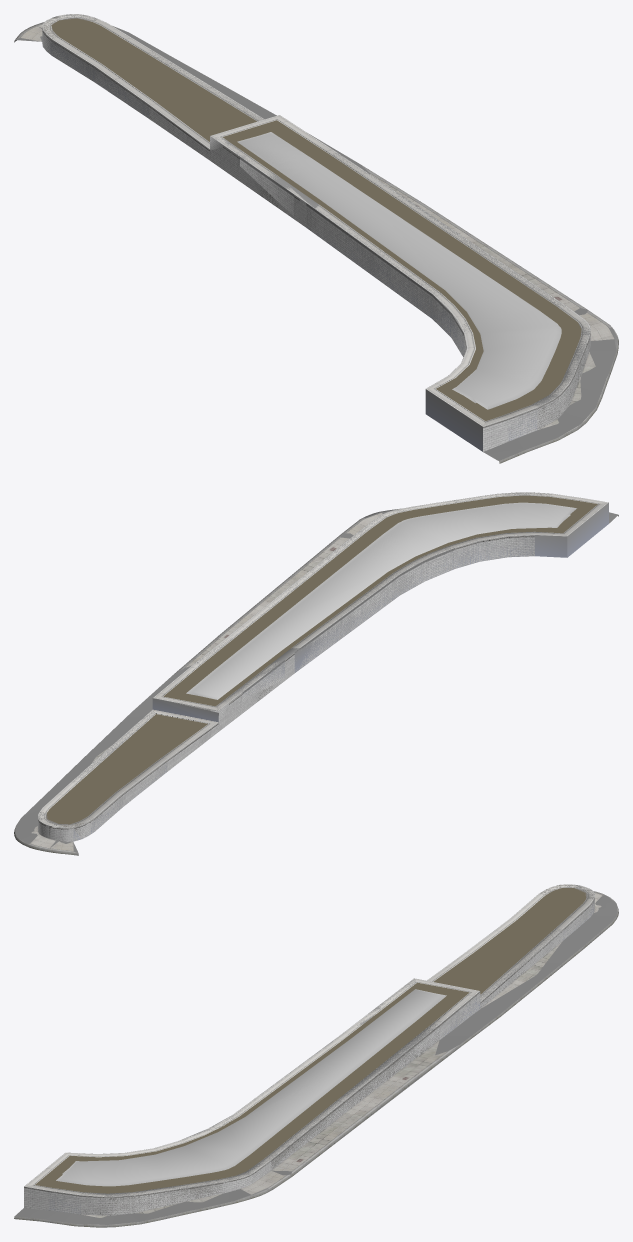
Rendered from s_walkway.dae.
3 renders of one model, top to bottom at view 1: azimuth 30°, elevation 25°; view 2: azimuth 150°, elevation 25°; view 3: azimuth 330°, elevation 25°, orthographic. The views are drawn at different scales.
Visible parts, largest first — view 1: s_walkway_L1200, s_walkway_L300, s_walkway_L600, Colmesh_s_walkway-1; view 2: s_walkway_L1200, s_walkway_L300, s_walkway_L600, Colmesh_s_walkway-1; view 3: s_walkway_L1200, s_walkway_L300, s_walkway_L600, Colmesh_s_walkway-1.
Boxes of the visible parts, x1,y1,x2,y2 form: s_walkway_L1200: (15,14,618,463); s_walkway_L300: (14,16,616,460); s_walkway_L600: (38,14,617,433); Colmesh_s_walkway-1: (42,14,616,428); s_walkway_L1200: (14,492,618,855); s_walkway_L300: (15,495,617,852); s_walkway_L600: (35,492,570,847); Colmesh_s_walkway-1: (15,509,570,841); s_walkway_L1200: (14,884,618,1227); s_walkway_L300: (14,885,617,1224); s_walkway_L600: (62,885,597,1224); Colmesh_s_walkway-1: (62,885,617,1215).
Bounding box in the file's own units: 10.5 × 48.11 × 1.68.
